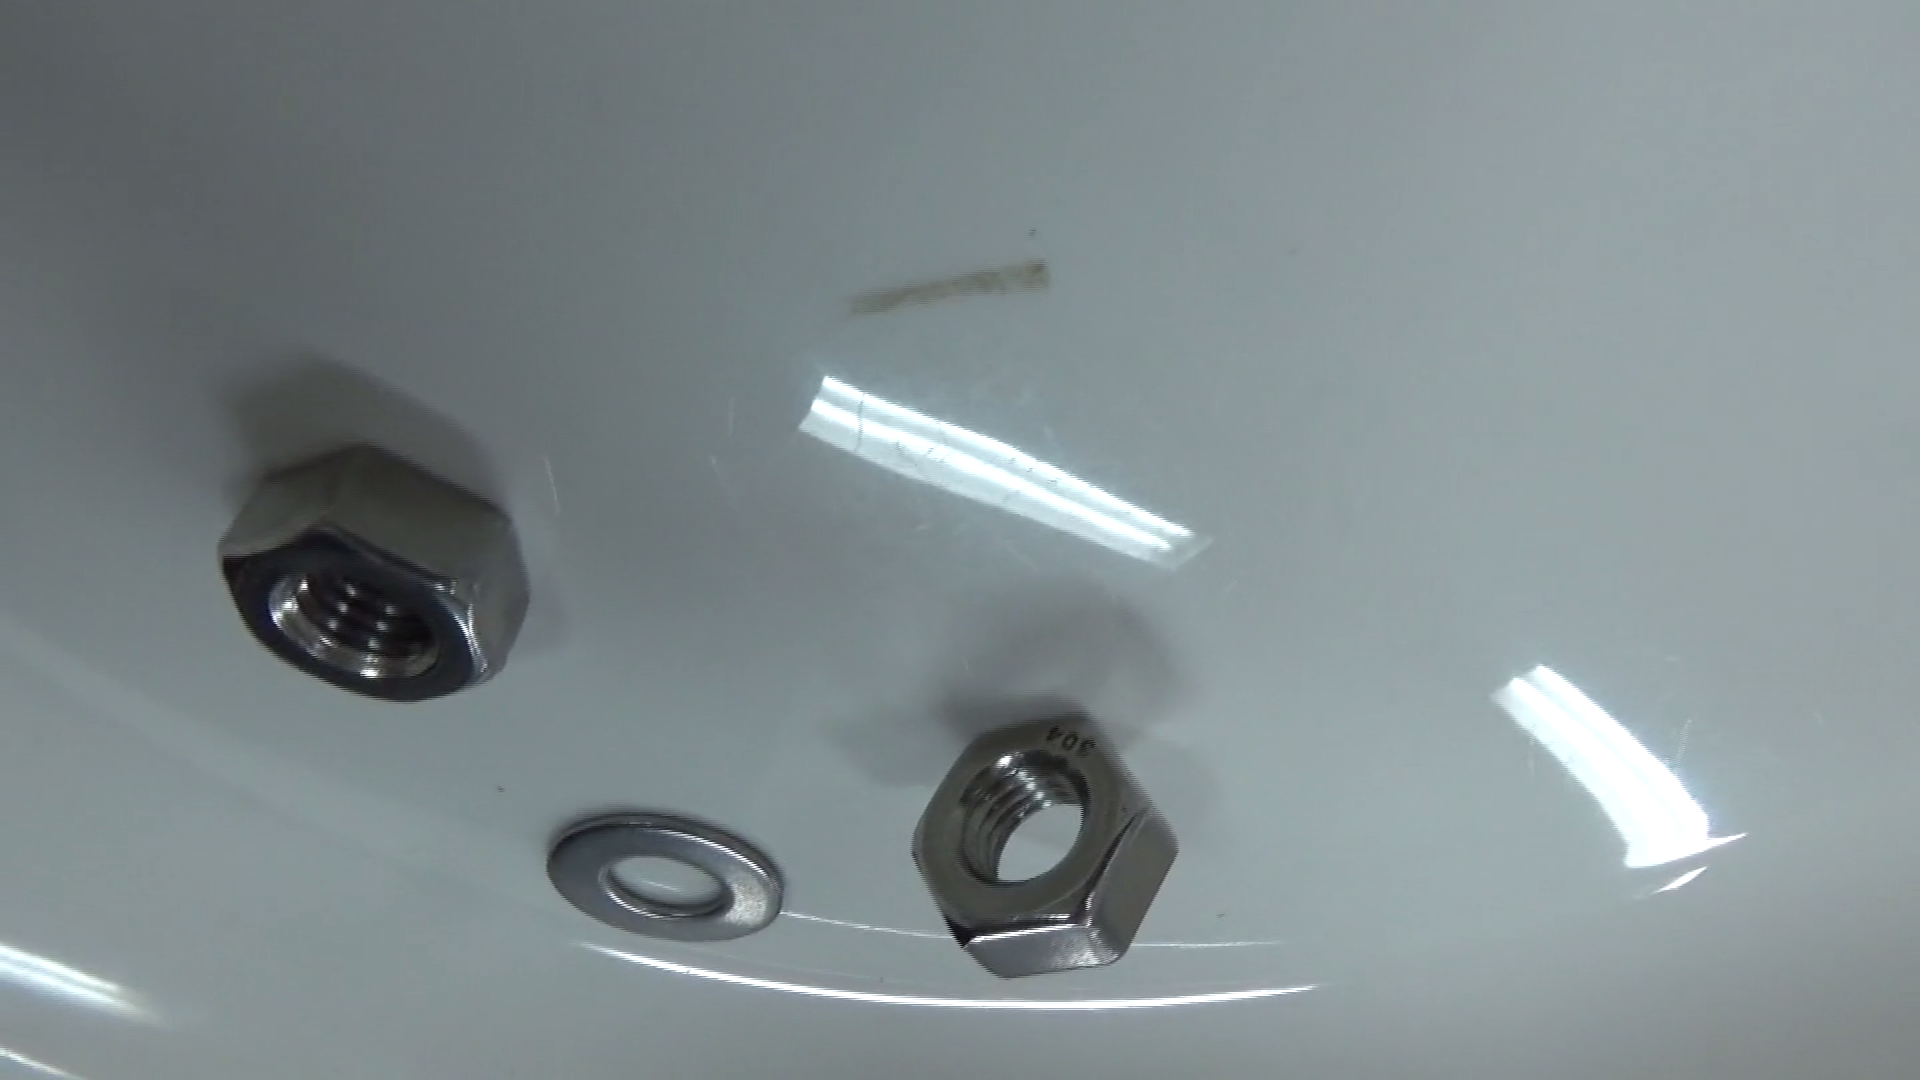nut: (193, 410, 556, 752), (891, 696, 1193, 1000)
washer: (509, 781, 811, 963)
